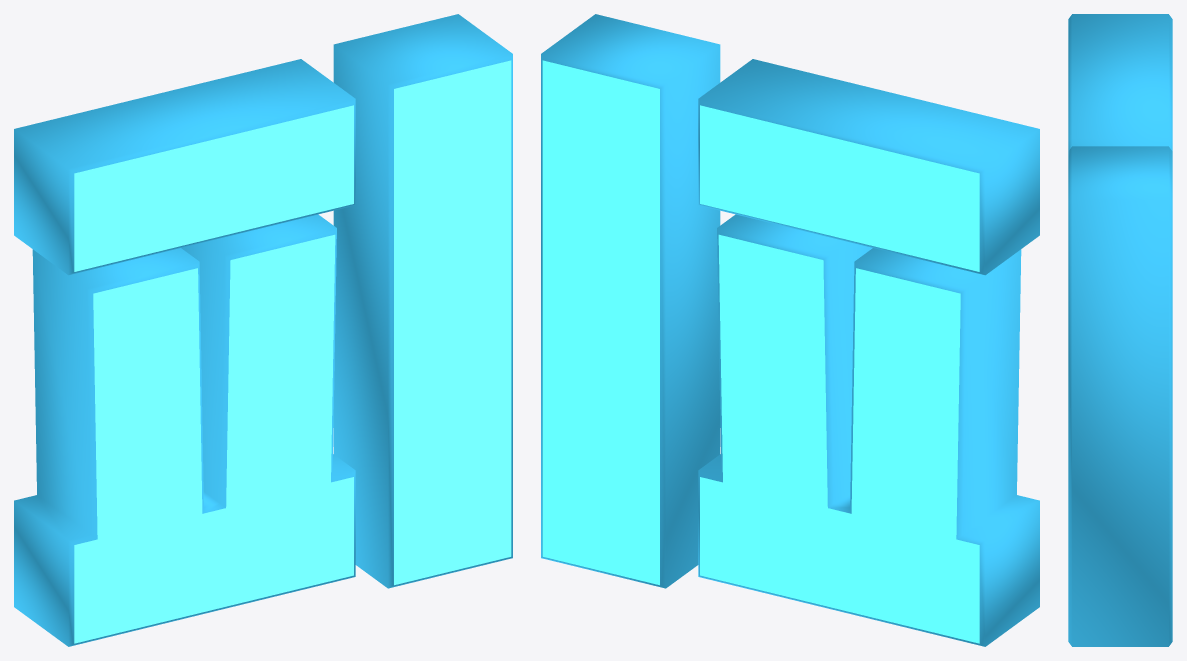
3 renders of one model, left to right at view 1: azimuth 30°, elevation 25°; view 2: azimuth 150°, elevation 25°; view 3: azimuth 270°, elevation 25°, orthographic. The views are drawn at different scales.
Parts seen in each view (by area): view 1: glyph; view 2: glyph; view 3: glyph.
Part boxes in pixels (left/top/right/bottom): glyph: left=14, top=14, right=512, bottom=646; glyph: left=541, top=14, right=1039, bottom=646; glyph: left=1068, top=14, right=1172, bottom=646.
Bounding box in the file's own units: 0.0706 × 0.0766 × 0.0162.
